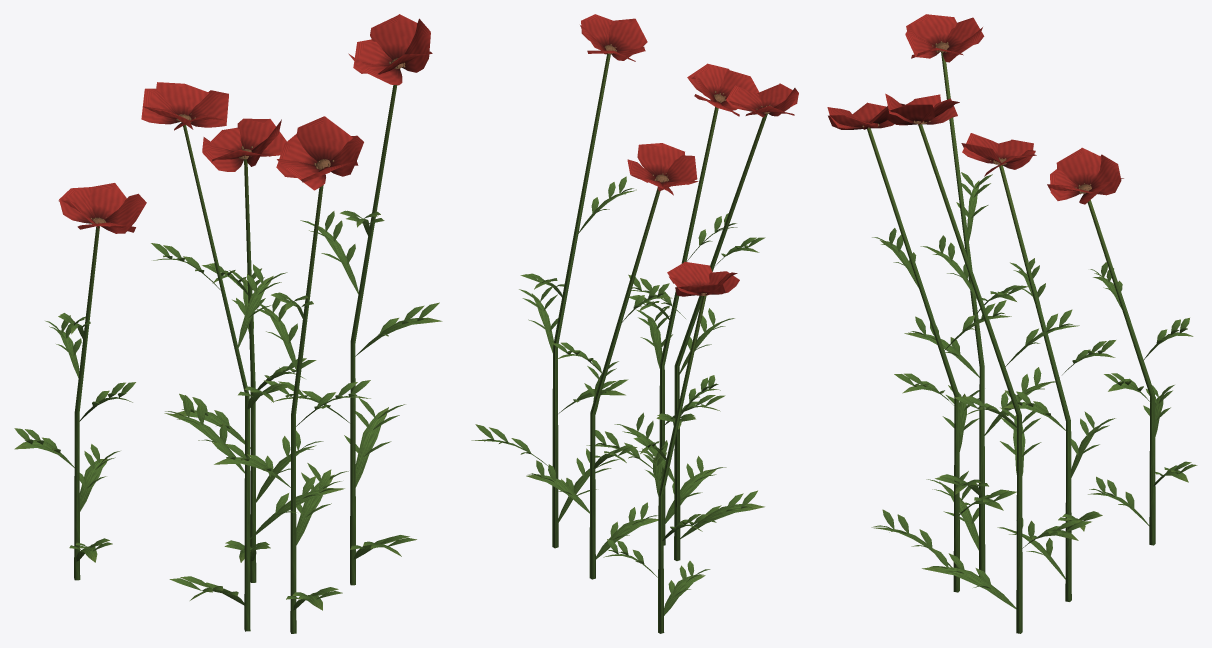
The model's file is FieldPoppy_C.fbx.
The picture shows the model from 3 angles, left to right: view 1: azimuth 30°, elevation 25°; view 2: azimuth 150°, elevation 25°; view 3: azimuth 270°, elevation 25°; orthographic projection. The views are drawn at different scales.
Visible parts, largest first — view 1: FieldPoppy_C_LOD0; view 2: FieldPoppy_C_LOD0; view 3: FieldPoppy_C_LOD0.
Boxes of the visible parts, x1,y1,x2,y2 form: FieldPoppy_C_LOD0: (14,14,442,633); FieldPoppy_C_LOD0: (471,14,798,633); FieldPoppy_C_LOD0: (827,14,1197,633).
Size of what is drawn, in the model's own units: 26.96 by 46.01 by 28.8.
Materials: 1 (1 with a texture image).
